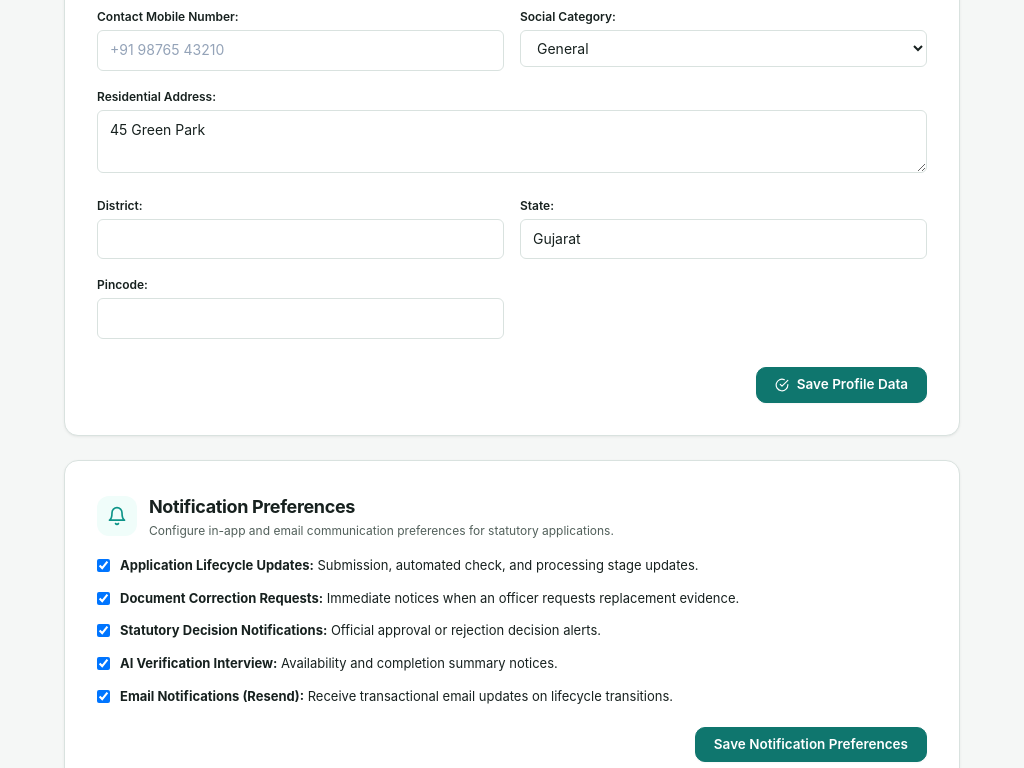
Test case: SevaSetu v1.0.0 Civic Platform Frontend Components › renders CitizenProfile and saves updated data
The width and height of the screenshot is (1024, 768).
(page scrolled)
Click the button "Save Profile Data". click: coordinates (841, 385)
box: [756,367,927,403]
(page scrolled)
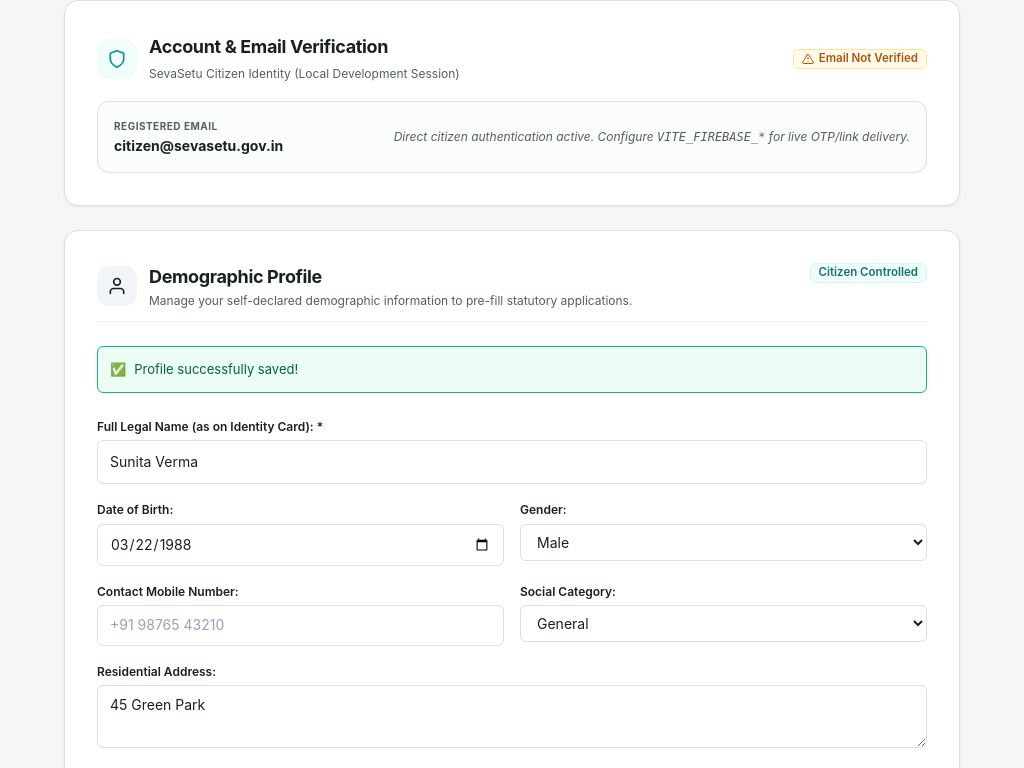
expect the text "Profile successfully saved!" is shown: met, box [134,359,298,380]
